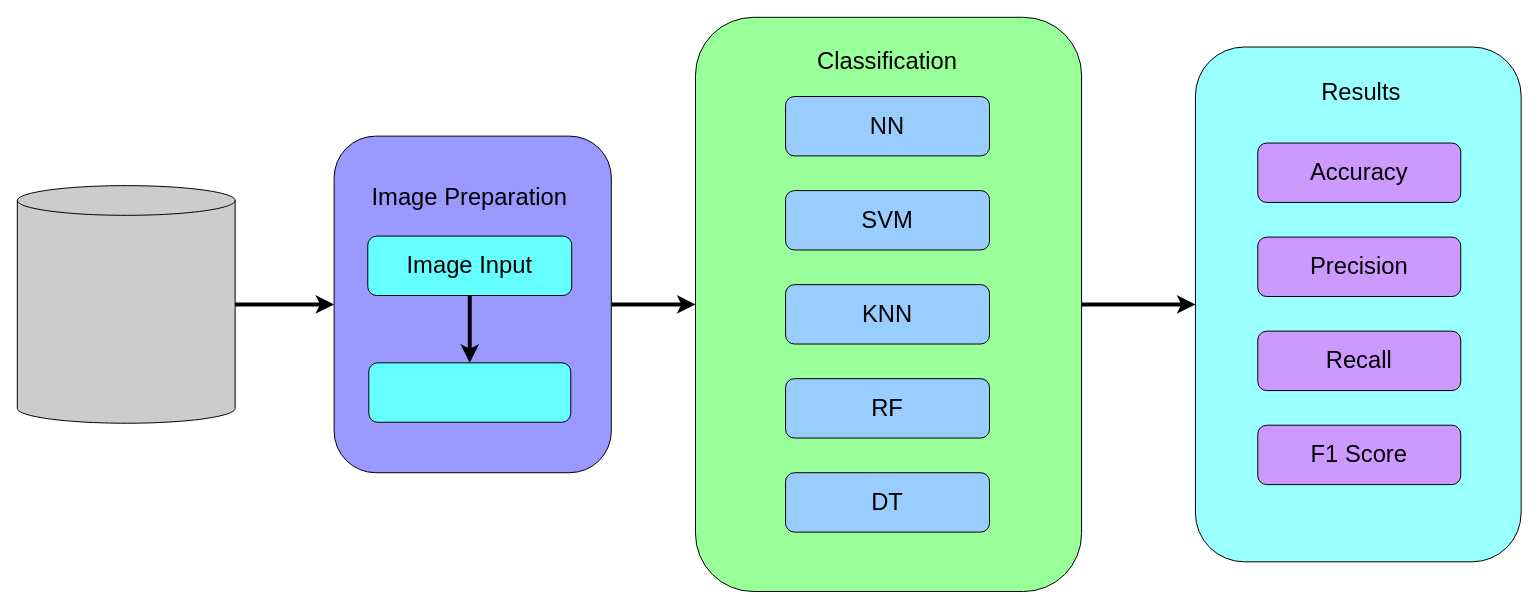
The diagram is 1538 pixels wide and 609 high, and some of its shapes have lost their labels. The centre of each missing label's shape, as x and y in pixels:
Data Preprocessing: [469,392]
Signature Images Dataset: [125,304]
